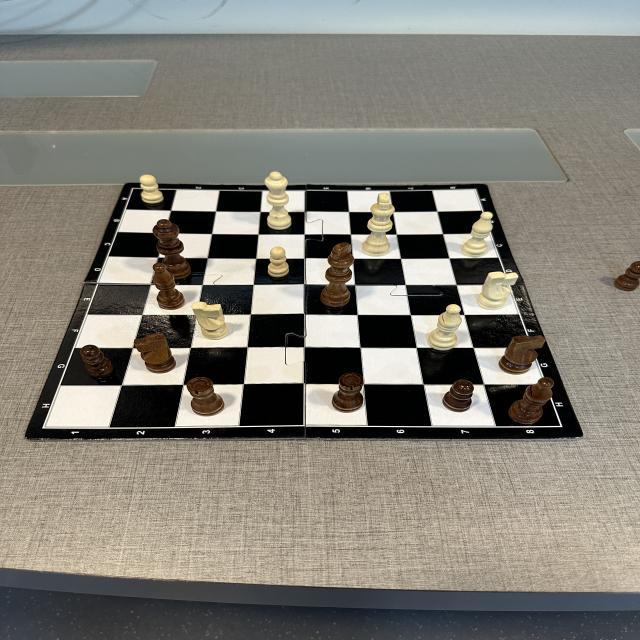Black-Bishop: (508, 378, 554, 425), (153, 262, 185, 310)
Black-King: (321, 242, 354, 308)
Black-Knight: (499, 334, 546, 374), (134, 334, 176, 374)
Black-Pawn: (442, 380, 475, 412), (81, 345, 113, 376), (614, 261, 640, 292)
Black-Queen: (153, 220, 191, 280)
Black-Rook: (186, 377, 225, 416), (331, 373, 364, 413)
White-Bishop: (427, 304, 461, 351), (461, 211, 493, 257)
White-King: (362, 193, 396, 256)
White-Knight: (476, 272, 519, 310), (191, 301, 228, 340)
White-Pawn: (267, 246, 290, 278), (139, 174, 164, 203)
White-Queen: (264, 172, 292, 229)
